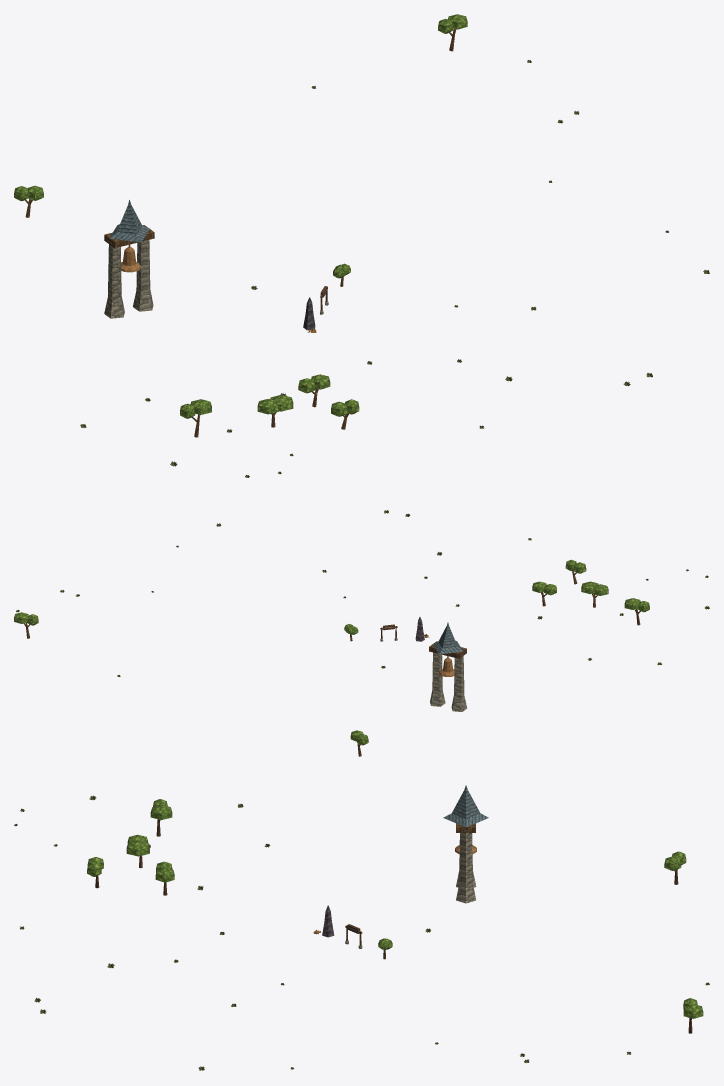
Rendered from FieldCell_5_6.fbx.
3 renders of one model, top to bottom at view 1: azimuth 30°, elevation 25°; view 2: azimuth 150°, elevation 25°; view 3: azimuth 270°, elevation 25°, orthographic. The views are drawn at different scales.
Parts seen in each view (by area): view 1: FieldCell_5_6; view 2: FieldCell_5_6; view 3: FieldCell_5_6.
Boxes of the visible parts, x1,y1,x2,y2 form: FieldCell_5_6: (14, 14, 467, 437); FieldCell_5_6: (14, 559, 649, 756); FieldCell_5_6: (87, 785, 703, 1033).
Size of the model in its own units: 14153 by 2300 by 13560.
